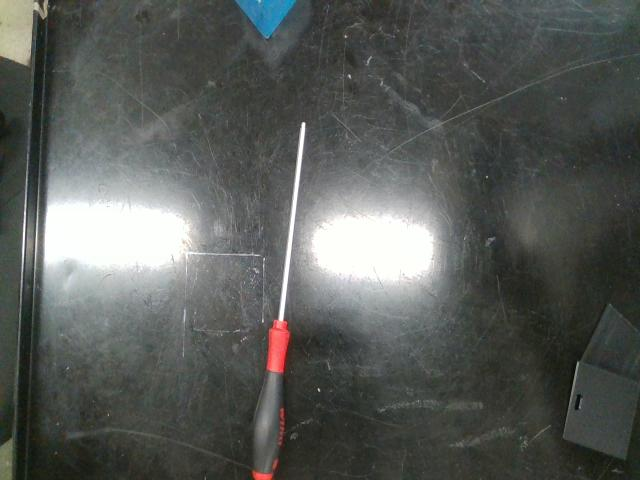Screwdriver: (252, 122, 305, 480)
